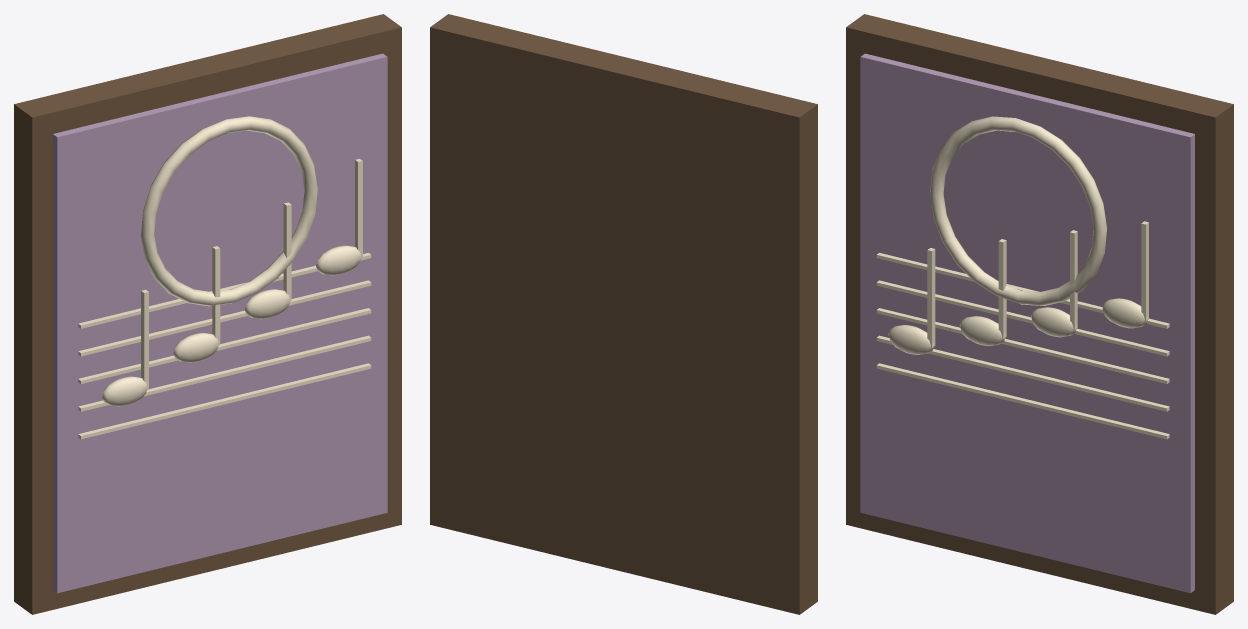
3 renders of one model, left to right at view 1: azimuth 30°, elevation 25°; view 2: azimuth 150°, elevation 25°; view 3: azimuth 330°, elevation 25°, orthographic.
Bounding box in the file's own units: 1.4 × 1.8 × 0.2415.
